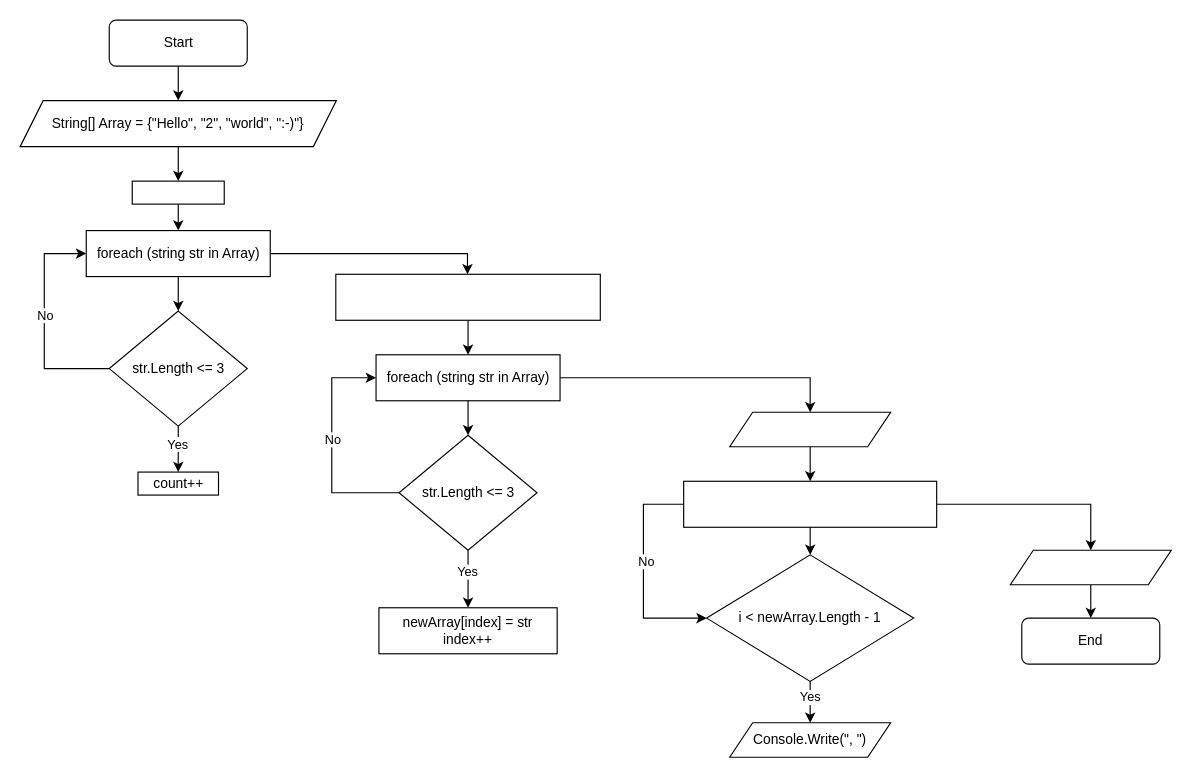
Some shapes in this 1191 by 777 pixel diagram are drawn without their labels. The box of each missing label's shape, as (x1, y1, x2, y2) in pixels:
Console.Write("["): (729, 411, 891, 447)
Console.Write("]"): (1009, 549, 1171, 585)
for(int i = 0; i < newArray.Length; i++): (683, 480, 937, 527)
int count = 0: (131, 180, 224, 204)
string[] newArrray = new string[count] int index = 0: (335, 273, 600, 320)
